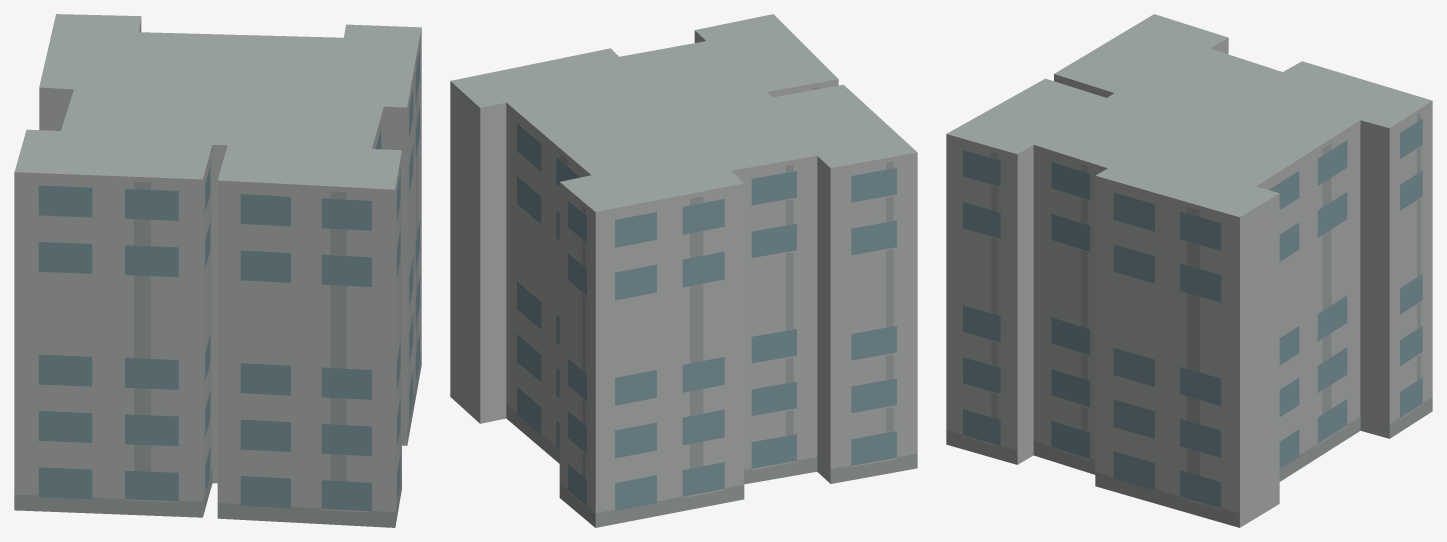
File: survey-upis-32810845.glb
3 views of the same model, side by side, from view 1: azimuth 30°, elevation 25°; view 2: azimuth 150°, elevation 25°; view 3: azimuth 270°, elevation 25° (orthographic). The views are drawn at different scales.
Parts seen in each view (by area): view 1: survey-upis-32810845.tmp; view 2: survey-upis-32810845.tmp; view 3: survey-upis-32810845.tmp.
Part boxes in pixels (<box>): survey-upis-32810845.tmp: <box>14,14,421,527</box>; survey-upis-32810845.tmp: <box>450,14,917,527</box>; survey-upis-32810845.tmp: <box>946,14,1432,527</box>.
Bounding box in the file's own units: 23.24 × 16.55 × 23.5.
